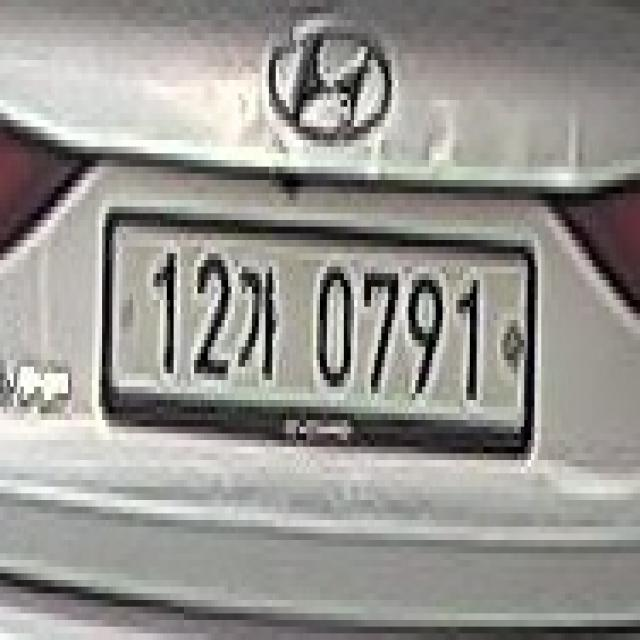0: (306, 253, 364, 427)
1: (446, 266, 494, 406), (143, 240, 187, 387)
2: (187, 246, 235, 386)
7: (361, 260, 402, 427)
9: (402, 267, 452, 413)
ga: (238, 260, 290, 393)
license_plate: (96, 193, 542, 480)
